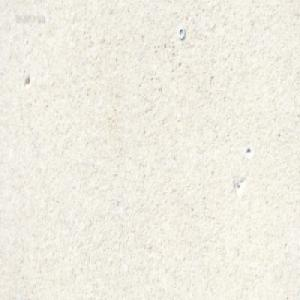Washer: (177, 25, 185, 40)
